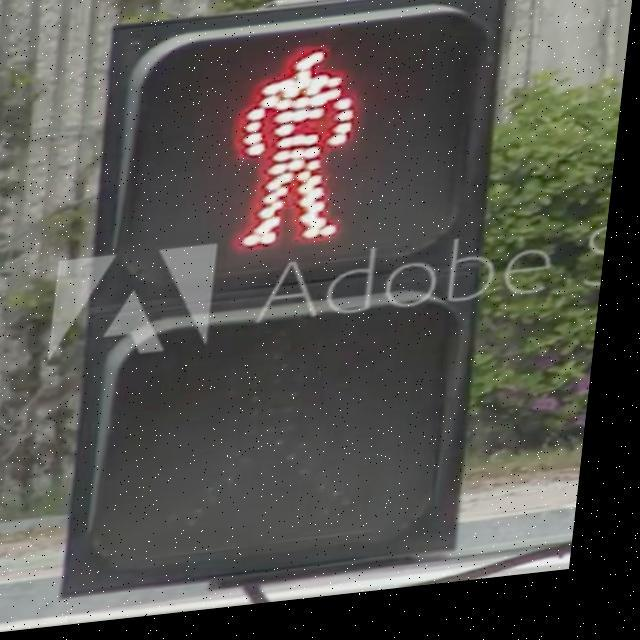red_light: (196, 33, 396, 267)
